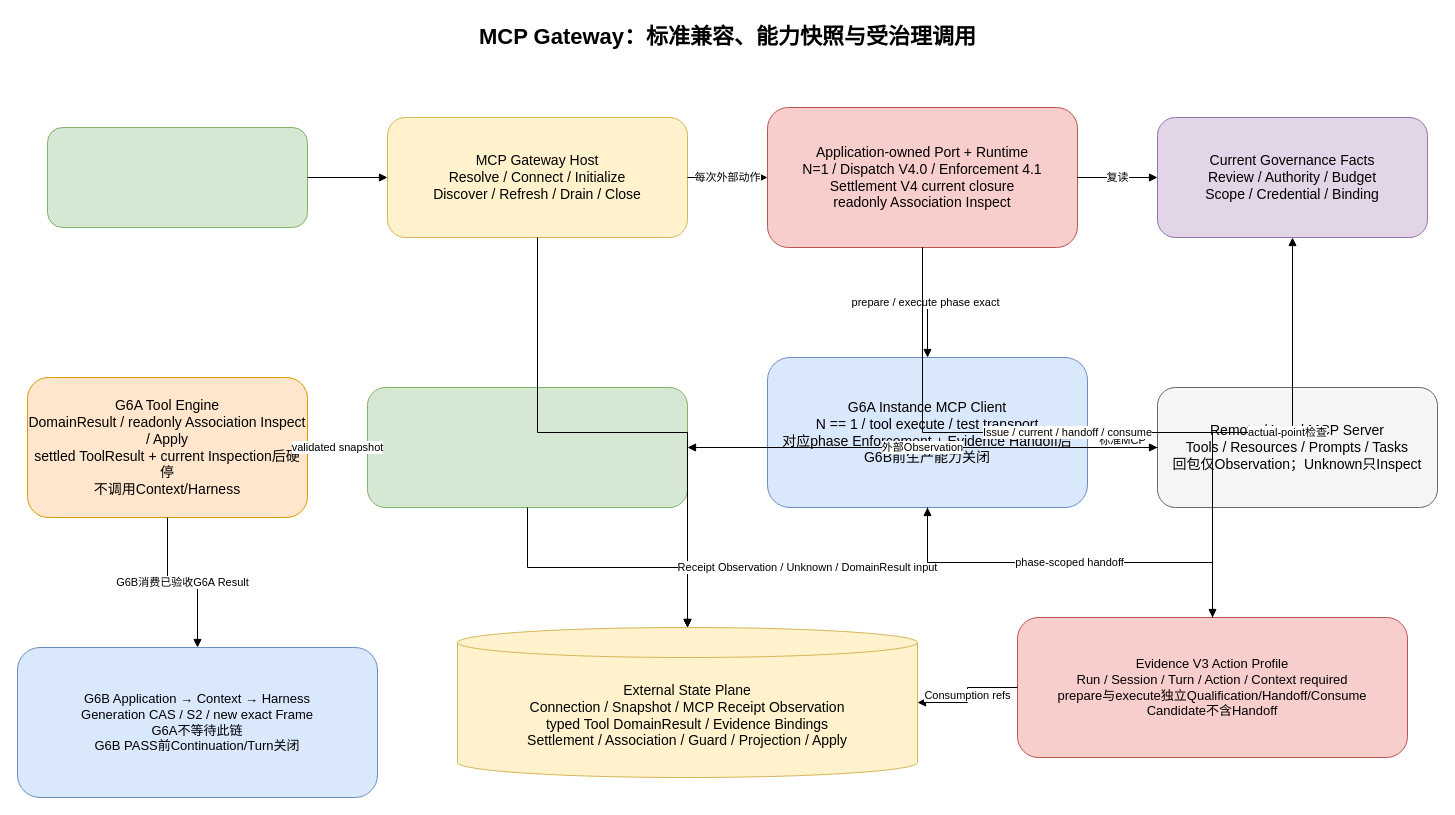
This 1455x815 diagram has some shape labels left out. The centre of each missing label's shape, as x and y in pixels:
"Capability Snapshot Owner Observed → Validated → Admitted → Active 漂移产生新Revision" belongs at point 527,447.
"MCP Server Registry Descriptor / Source / Trust / Limits" belongs at point 177,177.
